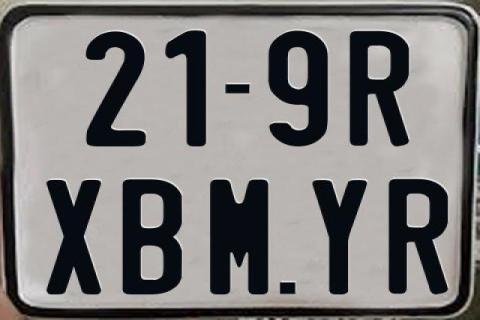0: (268, 28, 330, 144), (86, 29, 146, 147), (164, 30, 208, 146)
B: (122, 180, 186, 296)
M: (207, 177, 270, 293)
R: (388, 178, 452, 294), (350, 31, 410, 149)
X: (45, 178, 105, 294)
Y: (310, 180, 368, 298)
